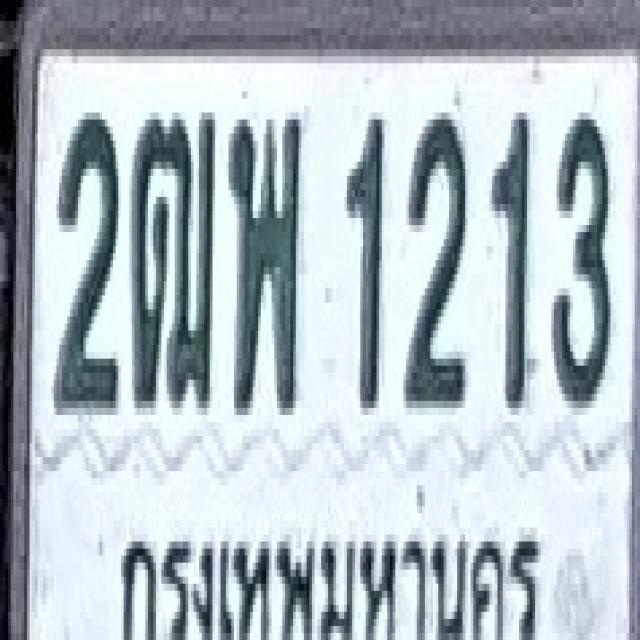-: (130, 105, 217, 408), (229, 109, 301, 411)
1: (489, 105, 530, 408), (344, 109, 385, 404)
2: (54, 109, 118, 411), (404, 109, 466, 404)
3: (552, 109, 610, 404)
BKK: (102, 499, 546, 640)
